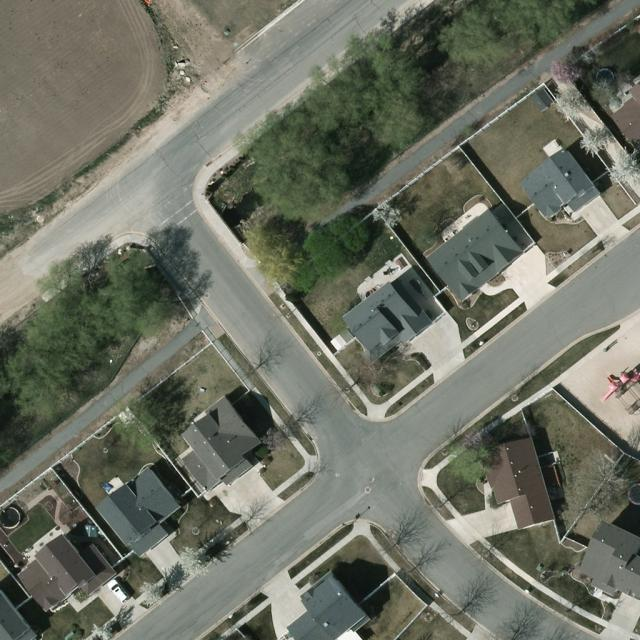vehicle: (108, 579, 130, 604)
